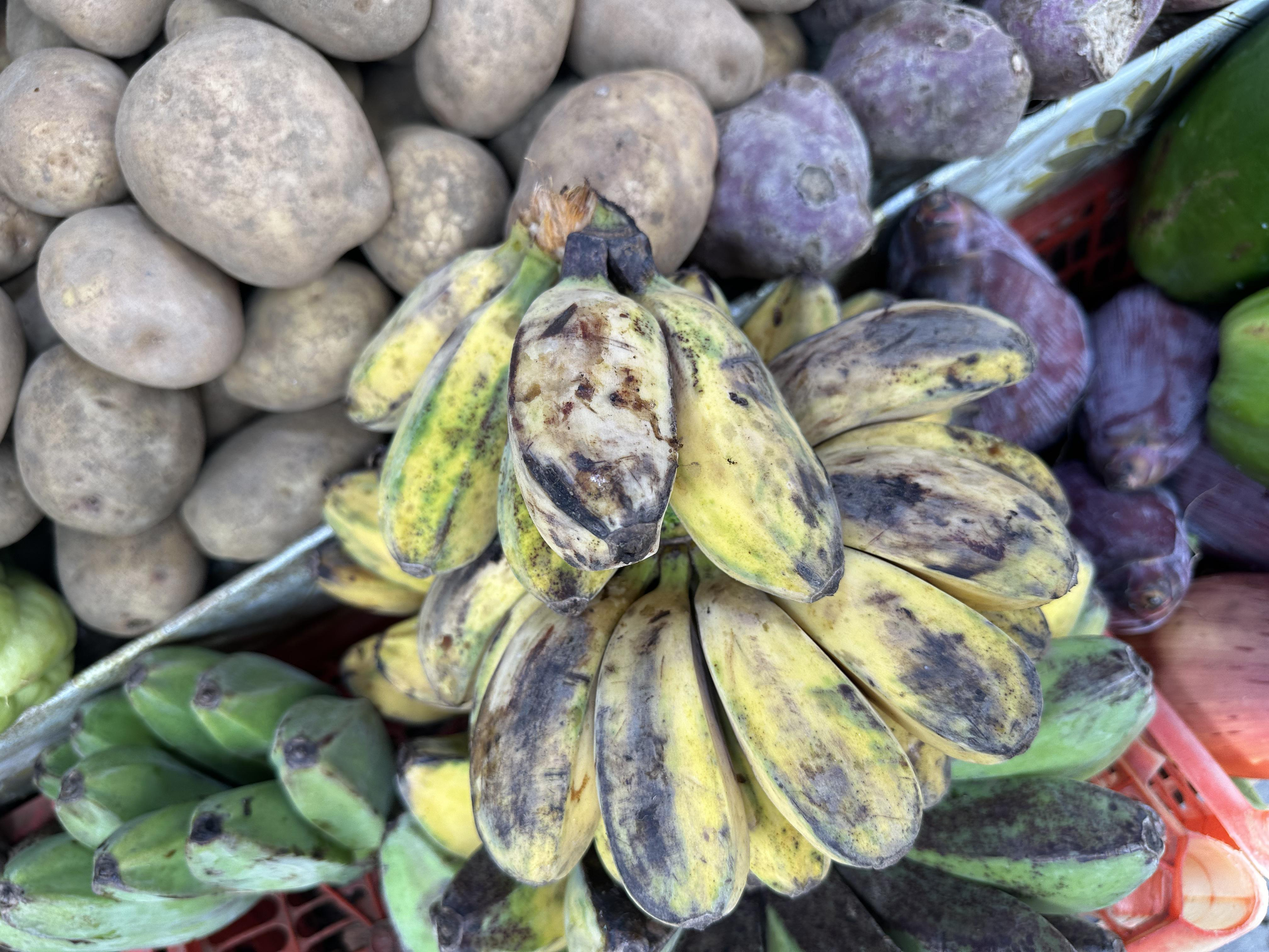underripe: (416, 274, 1079, 929), (396, 638, 1166, 952), (345, 253, 847, 617), (0, 642, 396, 952)
